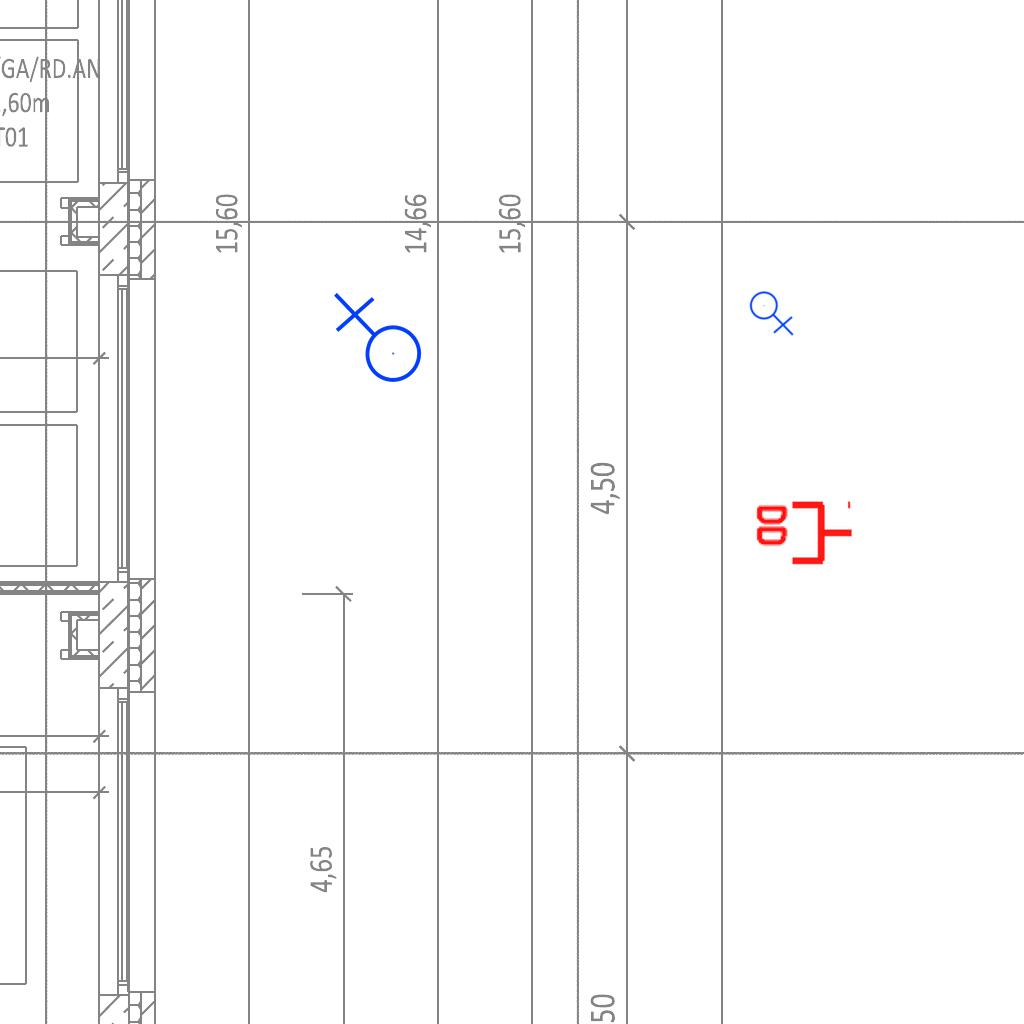Datenanschluss_zweifach: (752, 500, 855, 569)
Elektroanschluss_allgemein_230V_Geraeteanschlussdose_230V: (329, 292, 423, 391), (749, 287, 796, 336)
